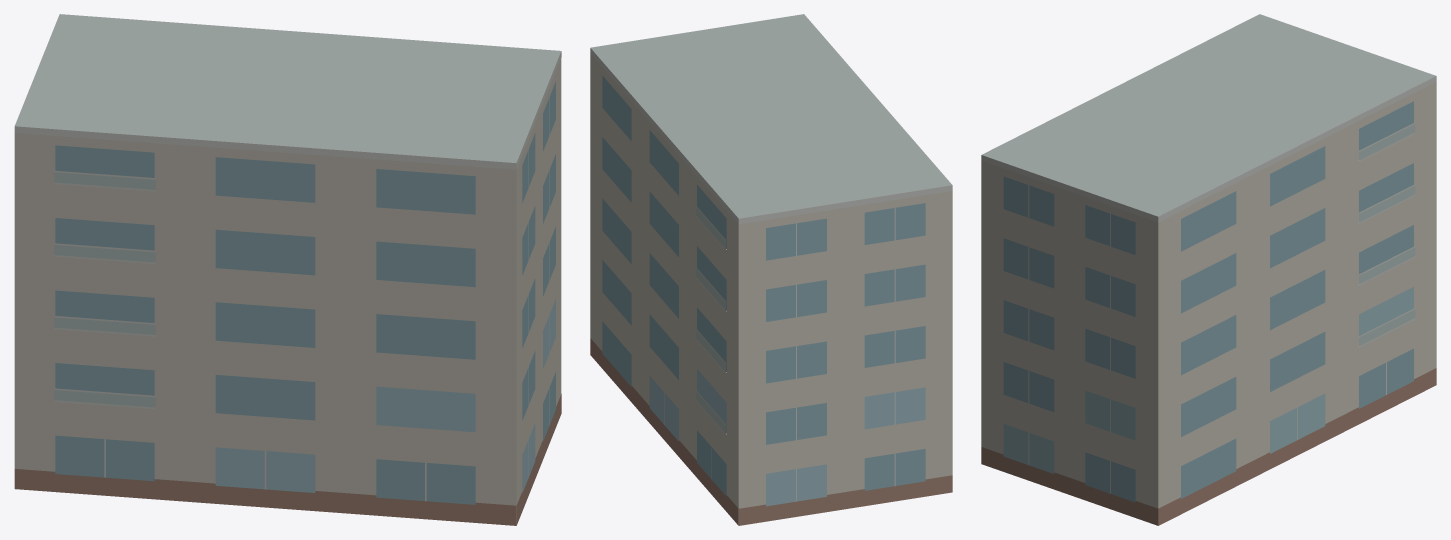
File: survey-upis-32978802.glb
3 views of the same model, side by side, from view 1: azimuth 30°, elevation 25°; view 2: azimuth 150°, elevation 25°; view 3: azimuth 270°, elevation 25° (orthographic). The views are drawn at different scales.
Parts seen in each view (by area): view 1: survey-upis-32978802.tmp; view 2: survey-upis-32978802.tmp; view 3: survey-upis-32978802.tmp.
Part boxes in pixels (bbox=[...]): survey-upis-32978802.tmp: bbox=[14, 14, 561, 525]; survey-upis-32978802.tmp: bbox=[590, 14, 952, 525]; survey-upis-32978802.tmp: bbox=[981, 14, 1436, 525].
Size of the model in its own units: 18.71 by 13.3 by 17.75.
